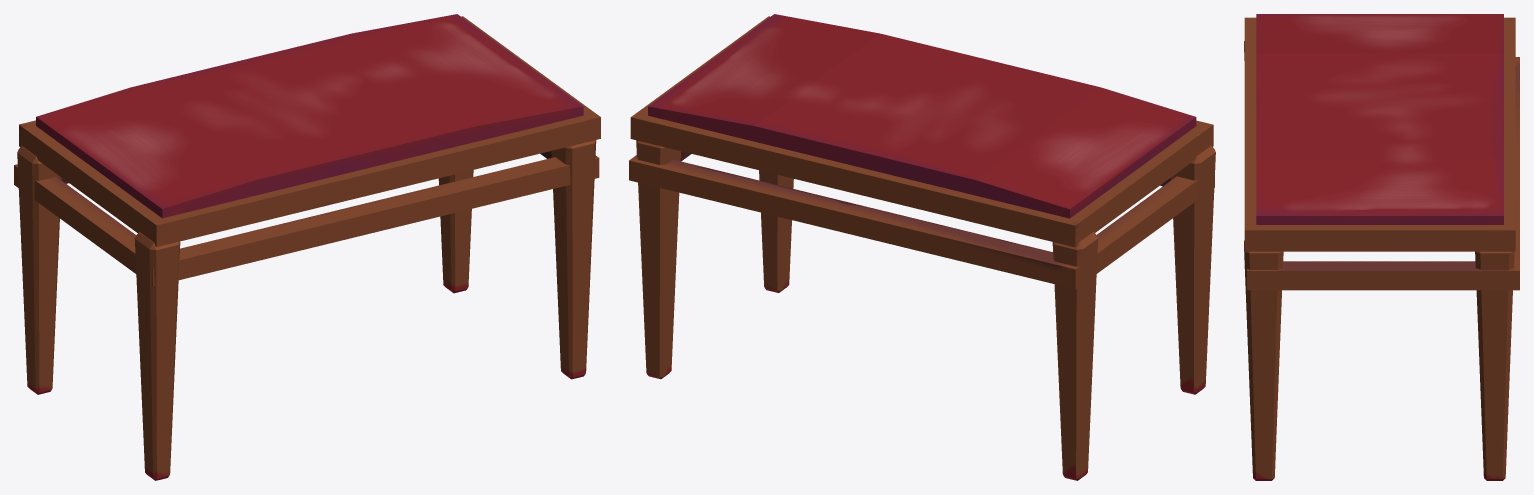
File: couchOrgan.fbx
3 renders of one model, left to right at view 1: azimuth 30°, elevation 25°; view 2: azimuth 150°, elevation 25°; view 3: azimuth 270°, elevation 25°, orthographic.
Parts seen in each view (by area): view 1: bancoPiano; view 2: bancoPiano; view 3: bancoPiano.
Boxes of the visible parts, box(x1,y1,x2,y2) form: bancoPiano: box(14, 14, 600, 480); bancoPiano: box(629, 14, 1215, 480); bancoPiano: box(1244, 14, 1519, 480).
Size of the model in its own units: 33.28 by 19.57 by 18.03.
